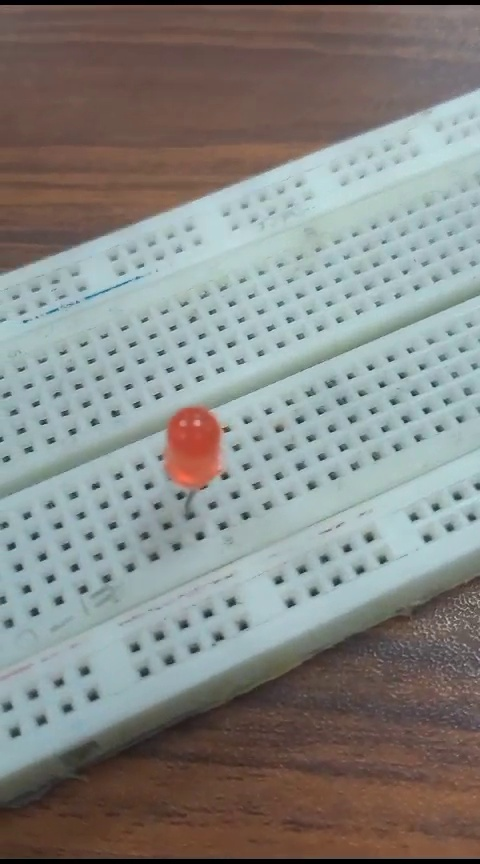LED: (155, 408, 244, 529)
